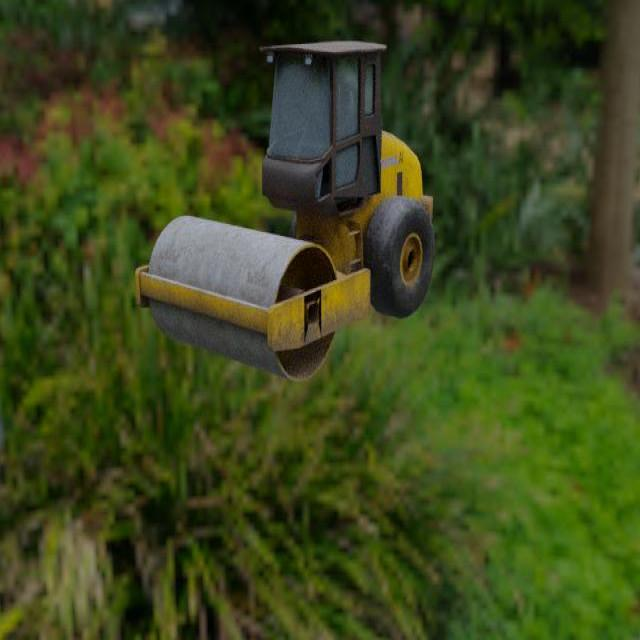Roller: (134, 40, 435, 381)
